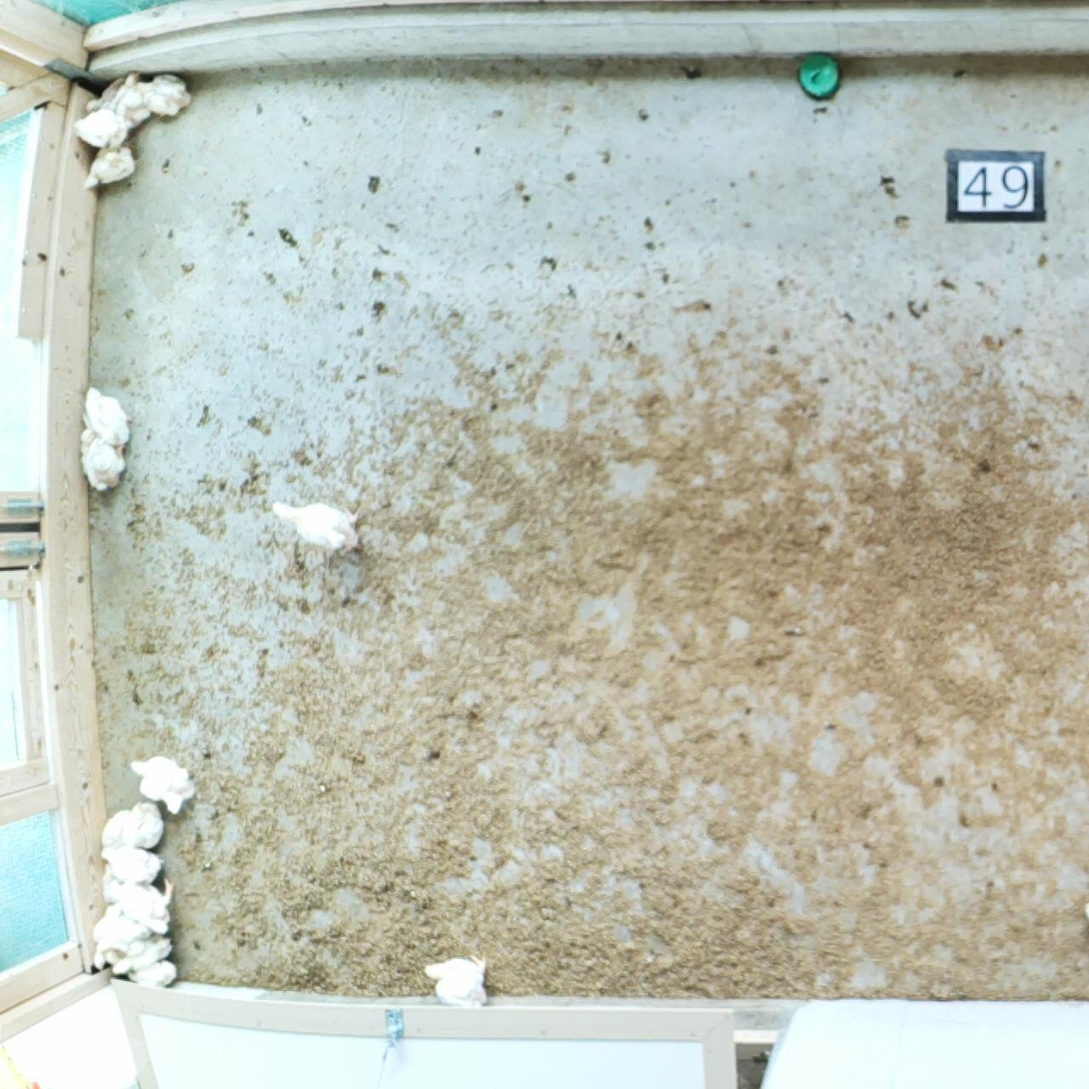chicken: (267, 493, 366, 556), (103, 871, 180, 939), (125, 751, 201, 819), (416, 948, 495, 1011), (90, 904, 152, 975), (76, 424, 131, 496), (78, 380, 132, 452), (94, 798, 170, 849), (133, 66, 198, 120), (77, 144, 143, 193), (98, 842, 168, 887), (107, 66, 154, 128), (70, 107, 135, 151), (127, 956, 179, 993), (81, 78, 125, 116)
